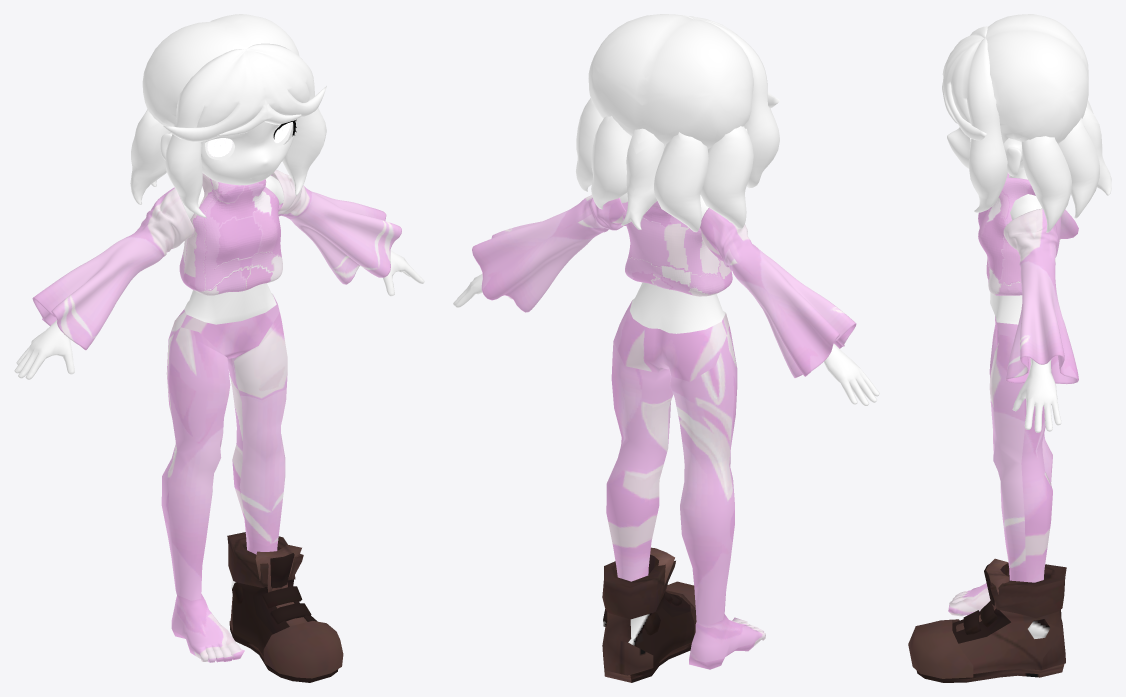
File: a_girl5.glb
3 renders of one model, left to right at view 1: azimuth 30°, elevation 25°; view 2: azimuth 150°, elevation 25°; view 3: azimuth 270°, elevation 25°, orthographic. The views are drawn at different scales.
Parts seen in each view (by area): view 1: skin + pants, hair, sleeves, shoes, turtleneck, face, eyes; view 2: skin + pants, hair, sleeves, shoes, turtleneck; view 3: hair, skin + pants, shoes, sleeves, turtleneck, face.
Boxes of the visible parts, x1,y1,x2,y2 form: skin + pants: (14, 175, 424, 662); hair: (130, 14, 326, 218); sleeves: (32, 169, 401, 350); shoes: (227, 532, 343, 682); turtleneck: (179, 173, 282, 295); face: (160, 118, 297, 185); eyes: (205, 120, 293, 160); skin + pants: (453, 192, 879, 669); hair: (576, 14, 779, 232); sleeves: (472, 195, 856, 377); shoes: (602, 547, 696, 682); turtleneck: (622, 201, 732, 296); hair: (942, 14, 1111, 232); skin + pants: (948, 167, 1061, 616); shoes: (908, 558, 1066, 682); sleeves: (1003, 208, 1078, 384); turtleneck: (978, 173, 1060, 295); face: (947, 127, 1023, 176).
Bounding box in the file's own units: 0.9306 × 1.38 × 0.4096.
Materials: 11 (7 with a texture image).
